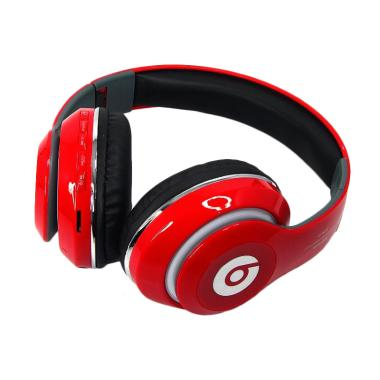Headphone: (31, 59, 355, 321)
